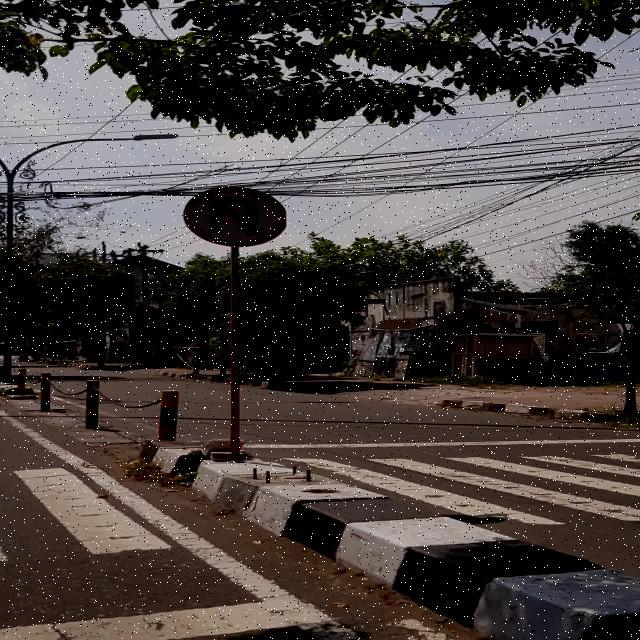Dilarang Putar Balik: (183, 187, 286, 247)
